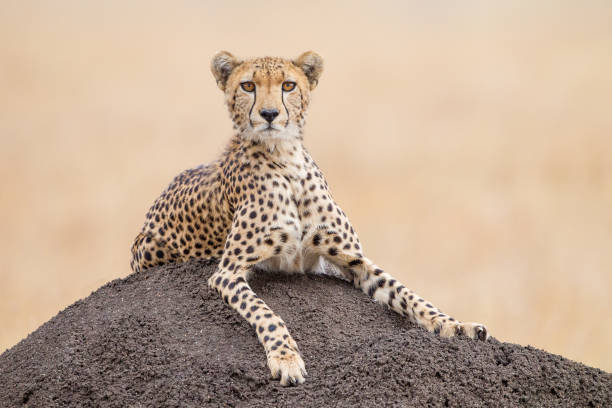cheetah: (198, 37, 349, 161)
